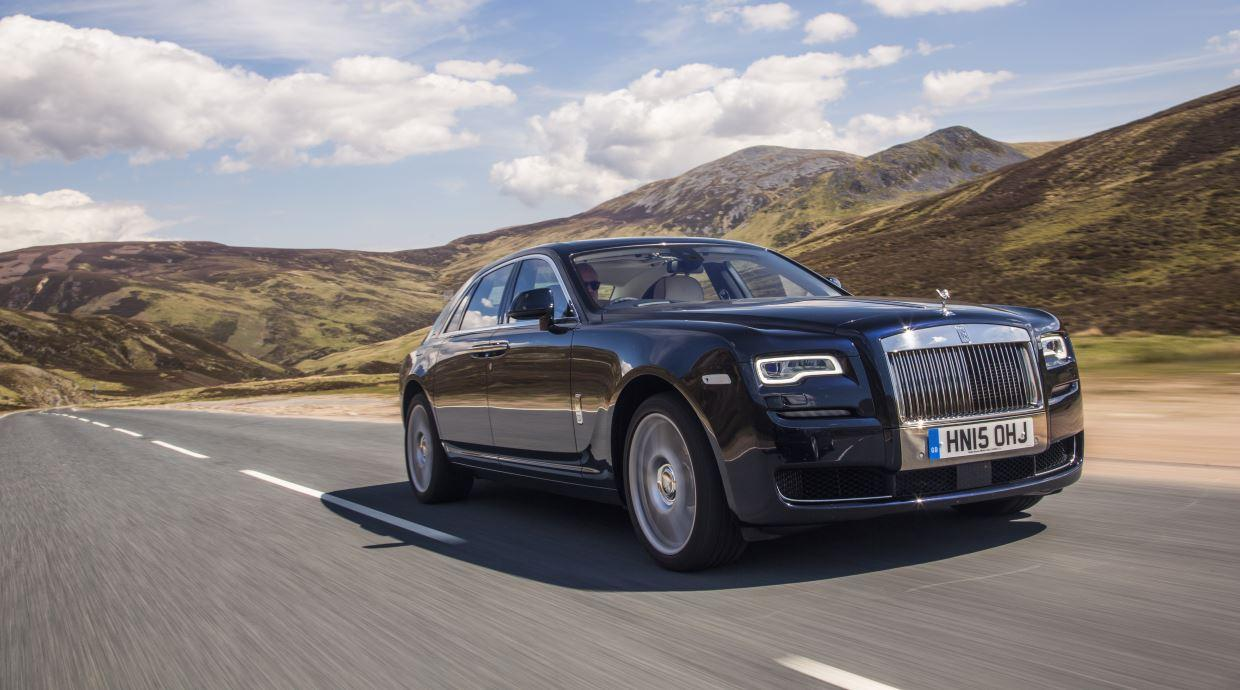small: (396, 234, 1086, 572)
